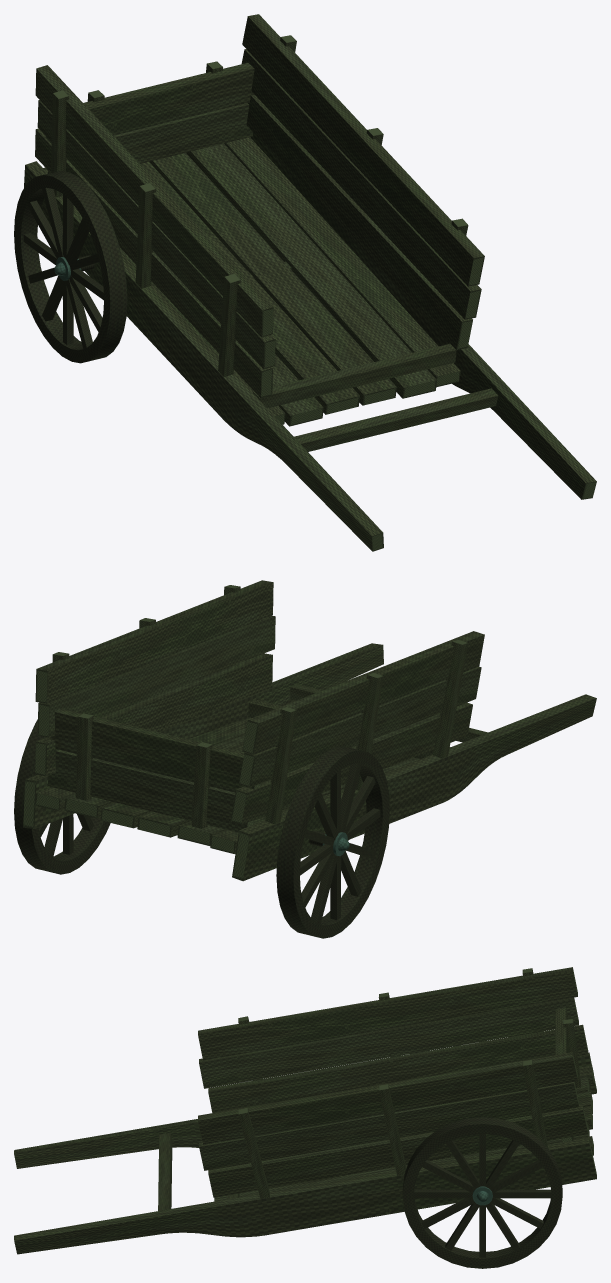
The picture shows the model from 3 angles, top to bottom: view 1: azimuth 30°, elevation 25°; view 2: azimuth 150°, elevation 25°; view 3: azimuth 270°, elevation 25°; orthographic projection. The views are drawn at different scales.
Visible parts, largest first — view 1: Prop_Wagon; view 2: Prop_Wagon; view 3: Prop_Wagon.
Boxes of the visible parts, x1=… form: Prop_Wagon: x1=14, y1=14, x2=596, y2=551; Prop_Wagon: x1=14, y1=580, x2=596, y2=938; Prop_Wagon: x1=14, y1=967, x2=596, y2=1268.
Size of the model in its own units: 1.95 by 1.53 by 4.02.
Materials: 1 (1 with a texture image).
